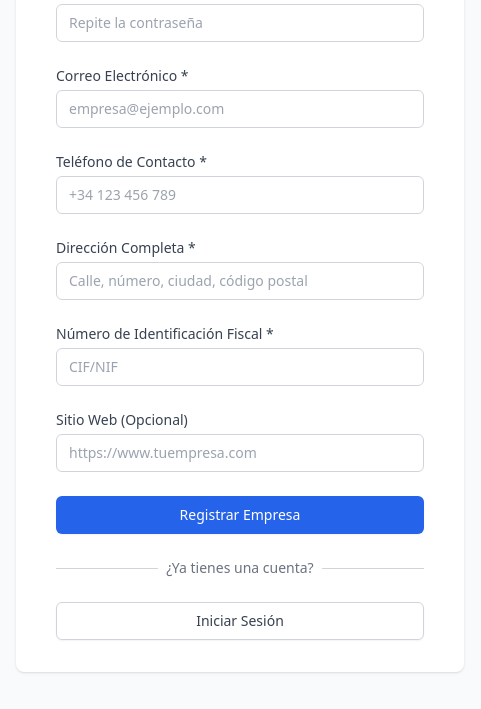
Test: CompanyRegistration Component › shows validation errors for empty required fields
(page scrolled)
Click the button "Registrar Empresa". click: x=240, y=515
box: [56,496,424,534]
(page scrolled)
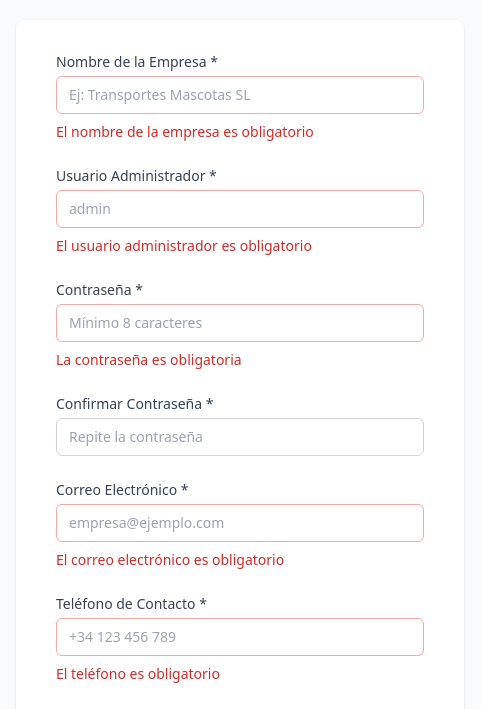
Expected: the text "El nombre de la empresa es obligatorio" is shown, [56,122,314,141]
Expected: the text "El usuario administrador es obligatorio" is shown, [56,236,312,255]
Expected: the text "El correo electrónico es obligatorio" is shown, [56,550,284,569]
